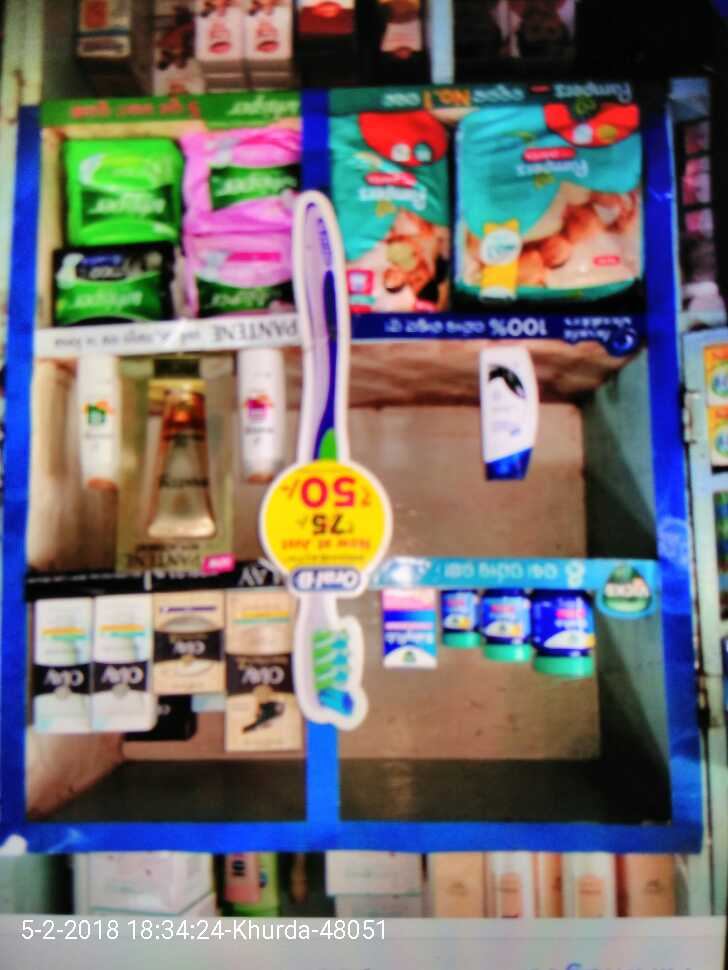vicks: (375, 576, 606, 682)
